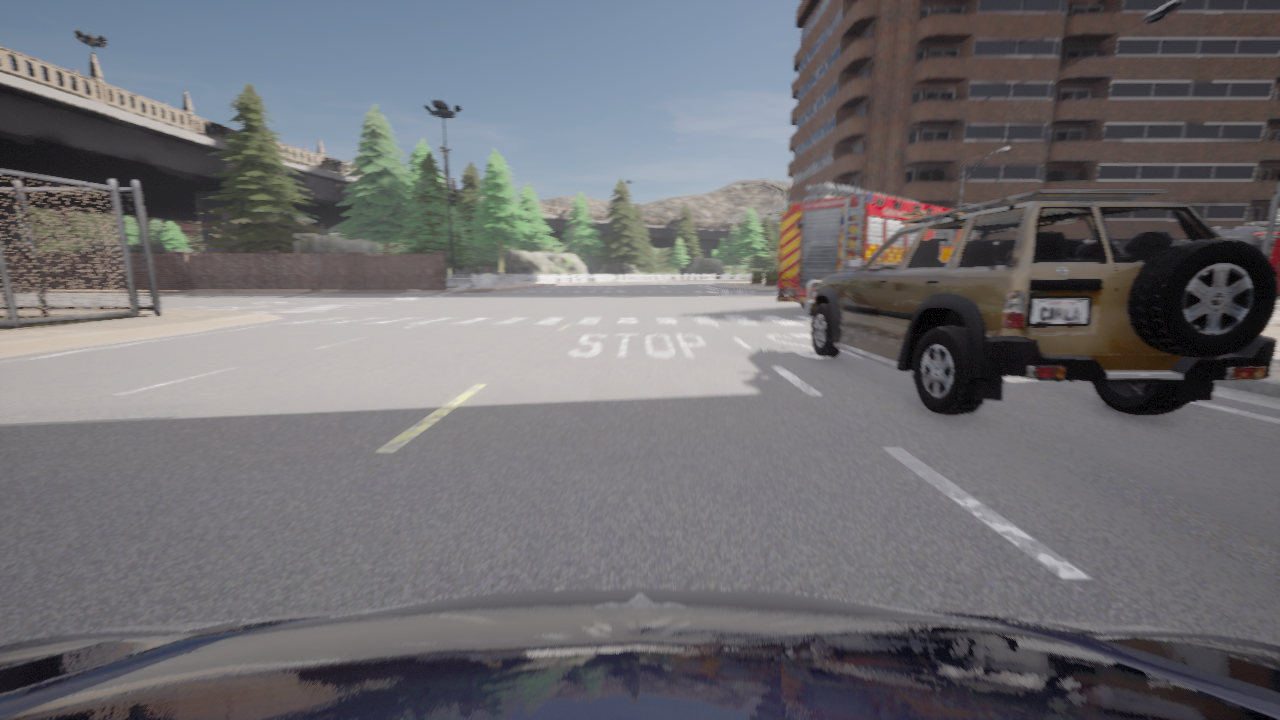cyclist: (0, 588, 1279, 719), (804, 190, 1277, 416), (776, 183, 951, 309), (1212, 222, 1279, 296)
